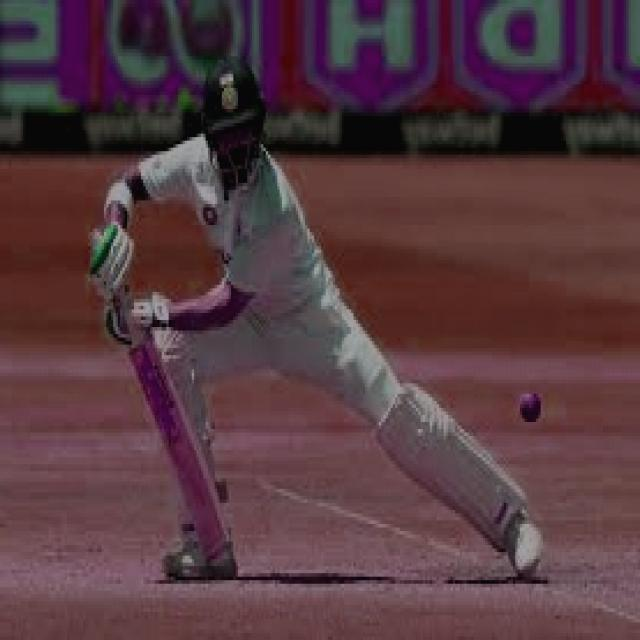bat: (115, 318, 244, 569)
toe: (201, 535, 230, 565)
